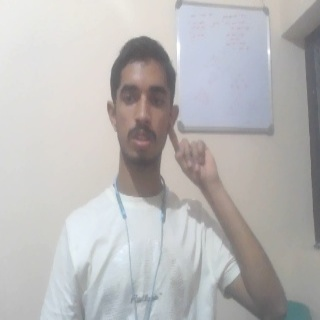Deaf: (168, 118, 223, 193)
Face: (105, 35, 180, 173)
